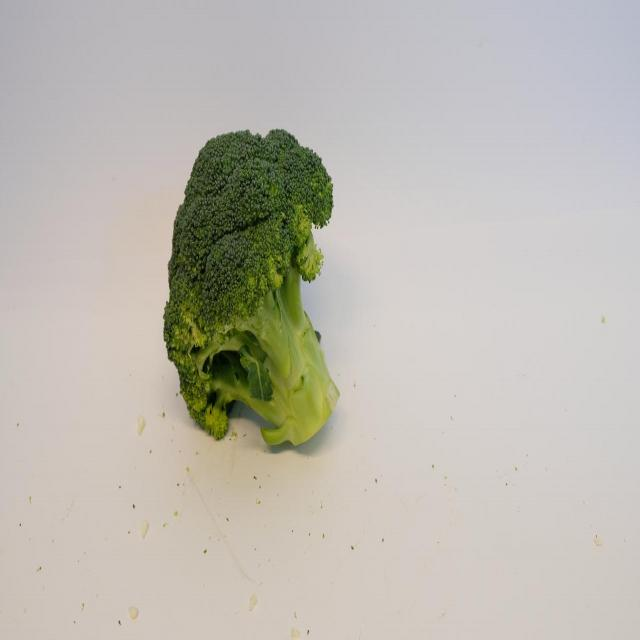broccoli: (167, 109, 355, 462)
